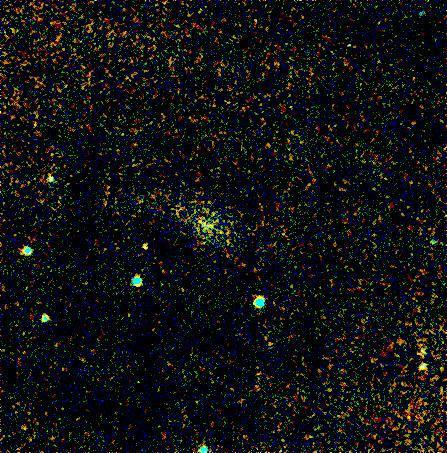star: (131, 229, 161, 259)
